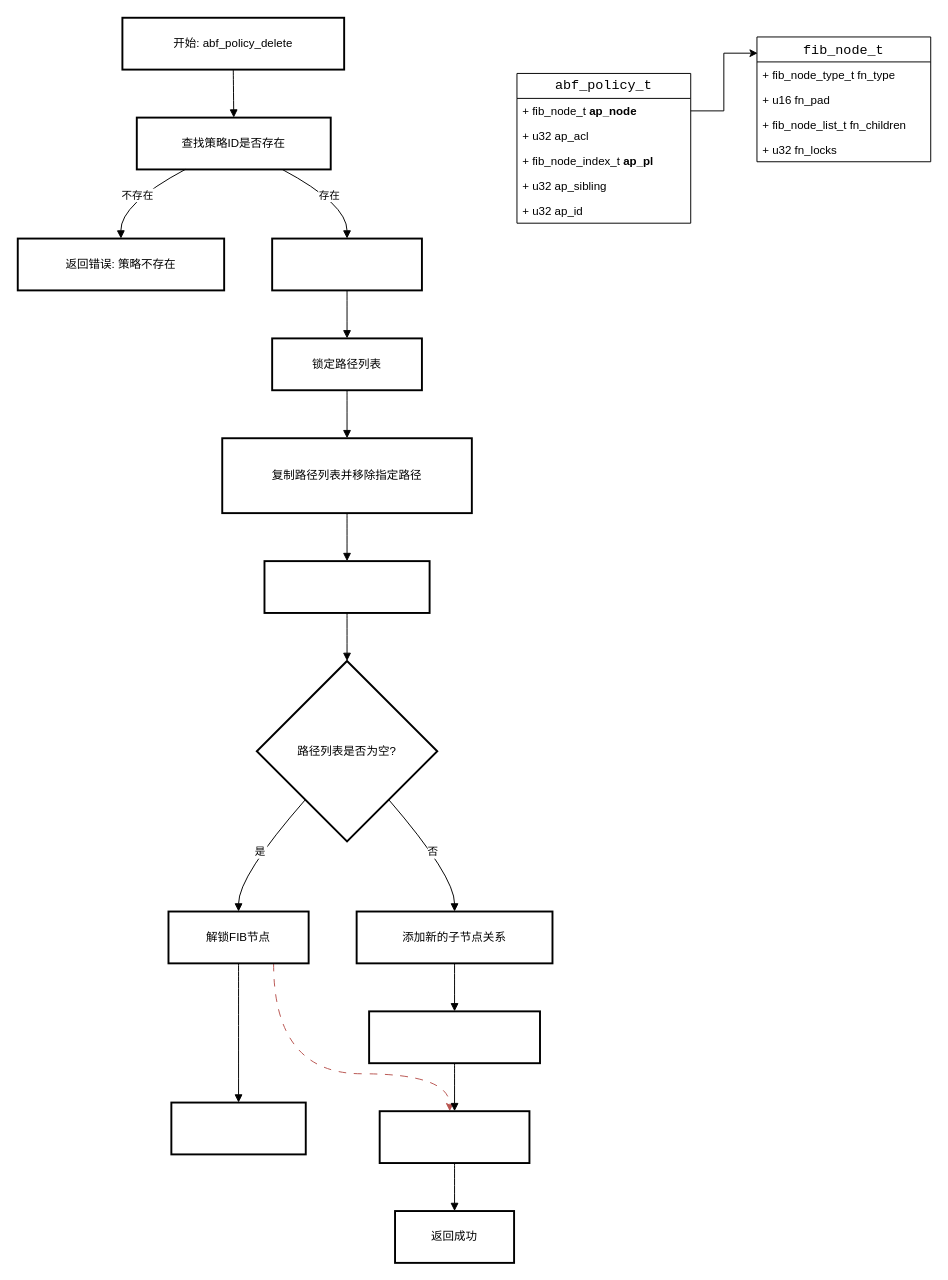
Some shapes in this 948 by 1280 pixel diagram are drawn without their labels. Here are the shapes that lost their labels. From the top down, the centre of each, then its label:
point 346,264: 获取策略对象
point 346,586: 移除子节点关系
point 454,1037: 执行FIB回退遍历
point 238,1128: 策略被销毁
point 454,1137: 解锁路径列表
